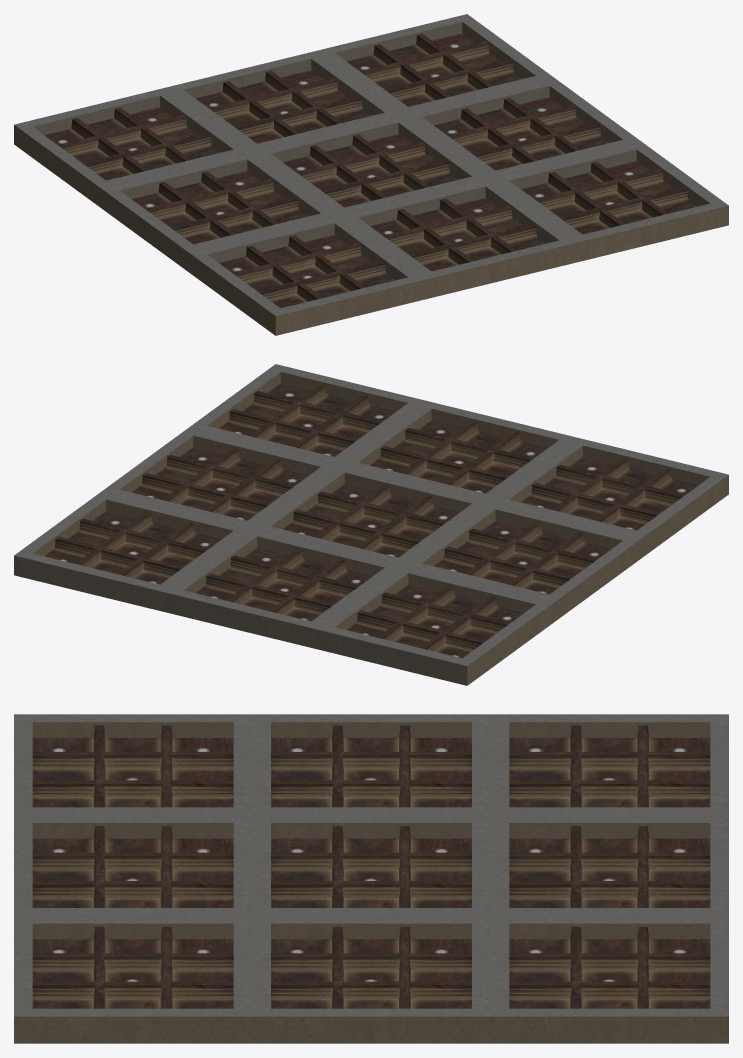
File: SM_Ceiling12m.FBX
3 views of the same model, one above another, from view 1: azimuth 30°, elevation 25°; view 2: azimuth 150°, elevation 25°; view 3: azimuth 270°, elevation 25° (orthographic). The views are drawn at different scales.
Visible parts, largest first — view 1: SM_Ceiling12m; view 2: SM_Ceiling12m; view 3: SM_Ceiling12m.
Boxes of the visible parts, <box> form: SM_Ceiling12m: <box>14,14,728,335</box>; SM_Ceiling12m: <box>14,364,728,685</box>; SM_Ceiling12m: <box>14,714,728,1043</box>.
Size of the model in its own units: 1200 by 1200 by 50.
